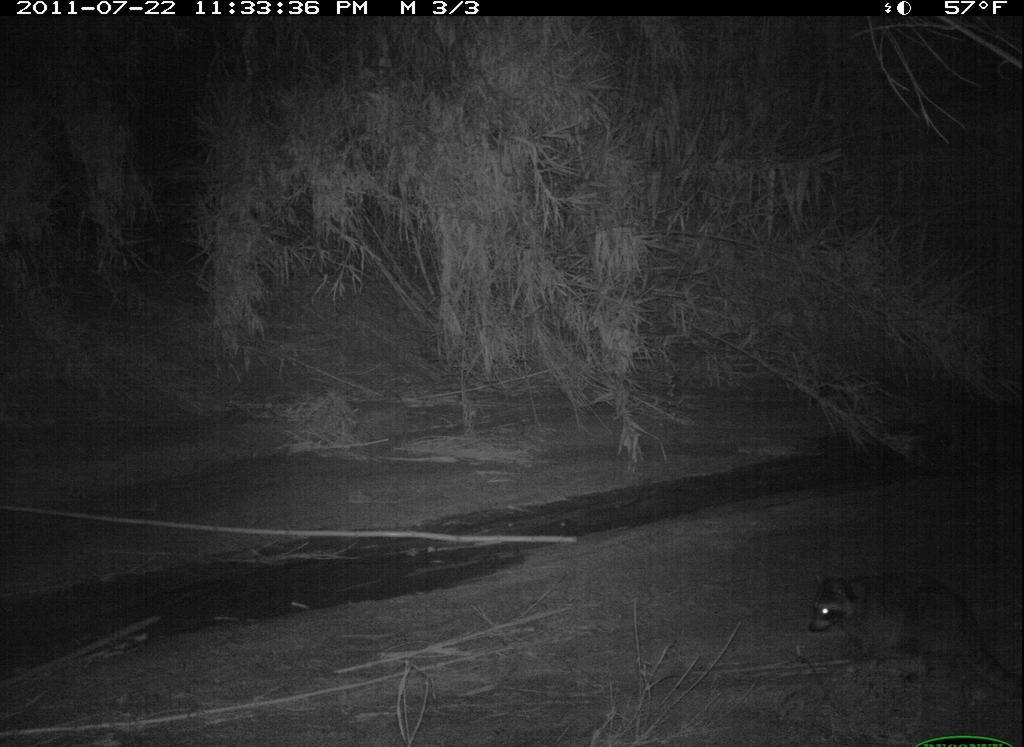raccoon: (801, 565, 1023, 702)
